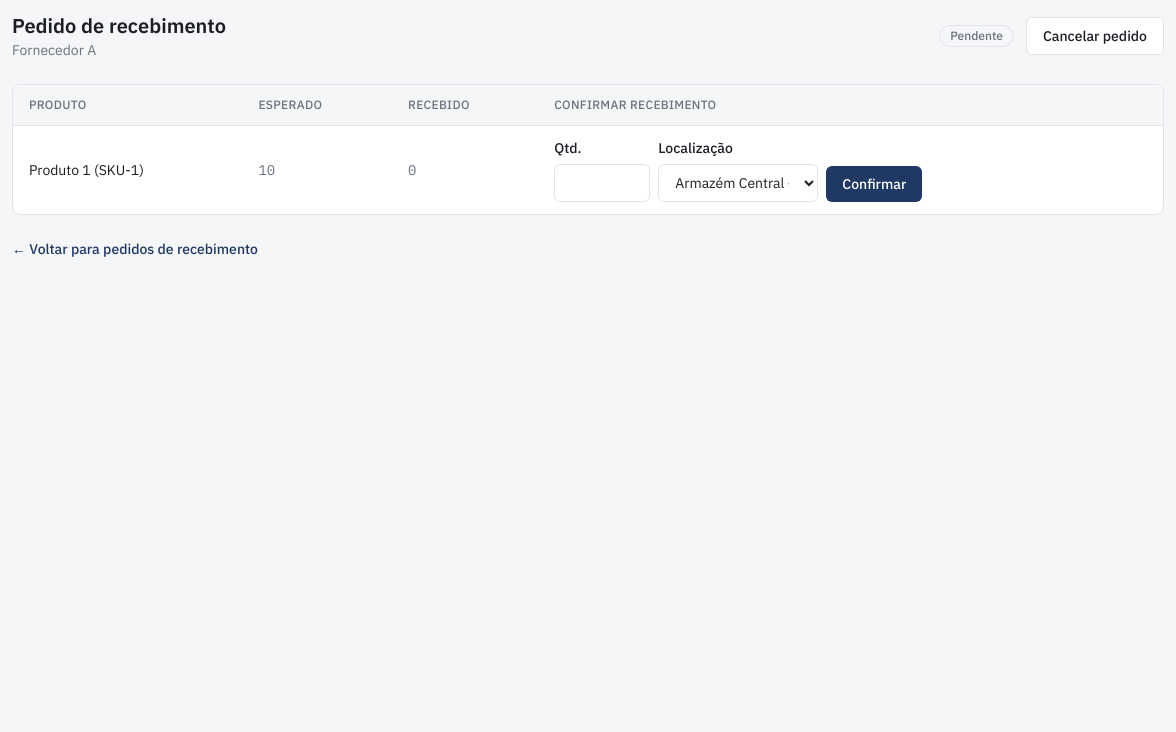
Scenario: PedidoRecebimentoDetailPage › confirma o recebimento de um item com quantidade e localização, e mostra sucesso
expect the text "Fornecedor A" is shown: met, box [12,41,96,59]
Type "10" into the number field labelled "Qtd." at (602, 183), box [554,164,650,202]
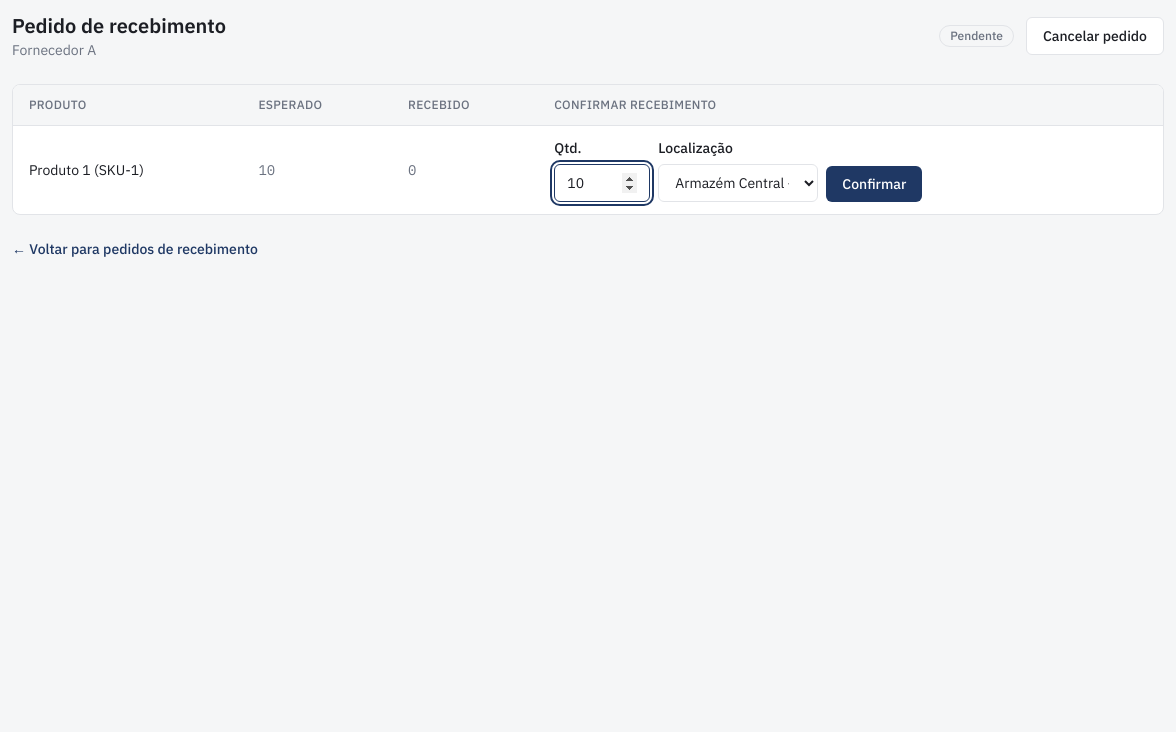
Click the button "Confirmar" at (874, 184), box [826,166,922,202]
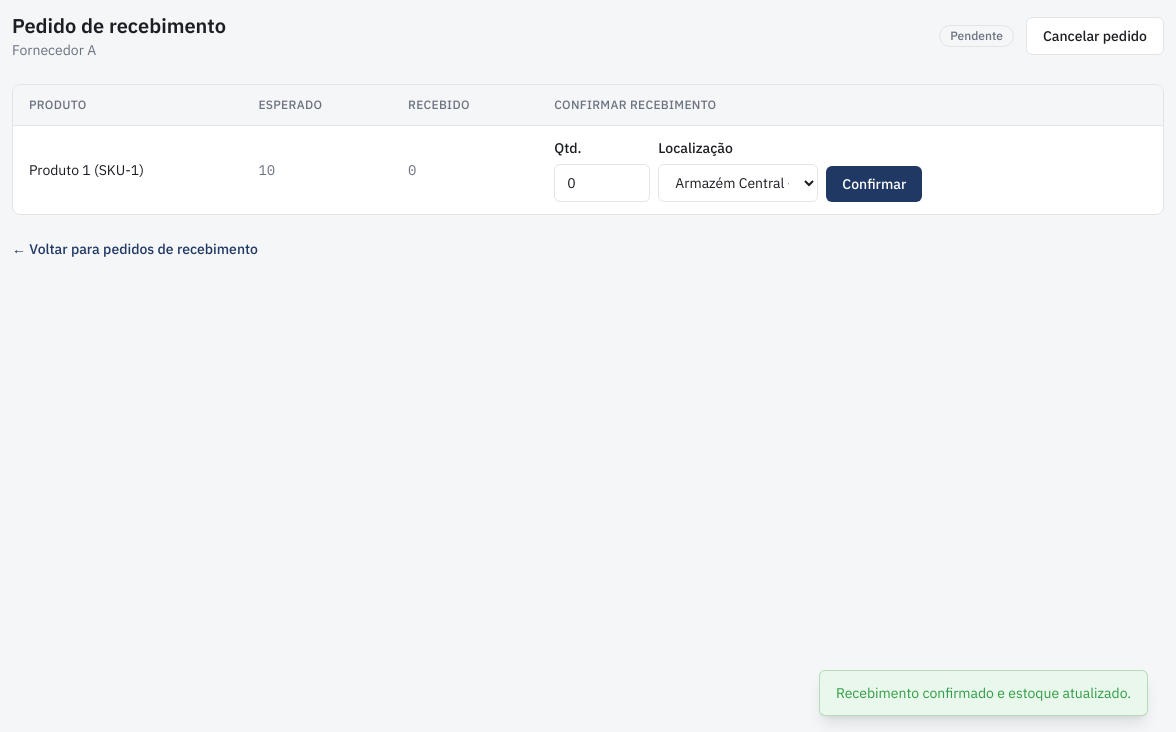
expect the text "Recebimento confirmado e estoque atualizado." is shown: met, box [819,670,1148,716]
